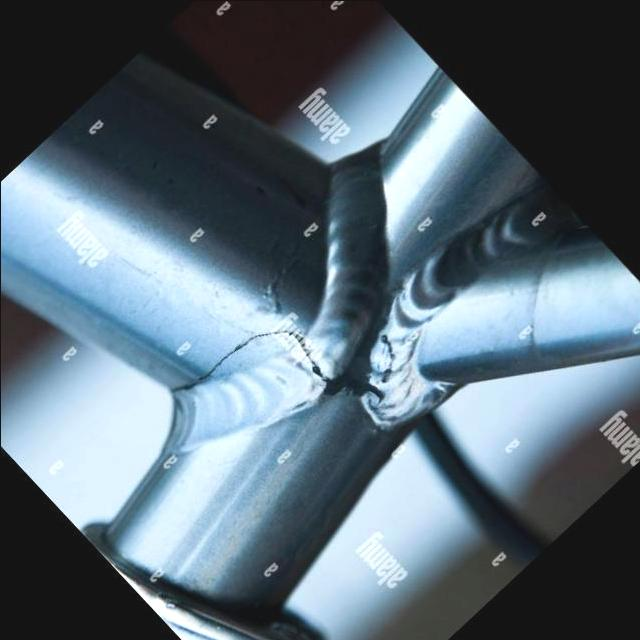defect: (158, 322, 332, 401), (375, 326, 398, 386)
